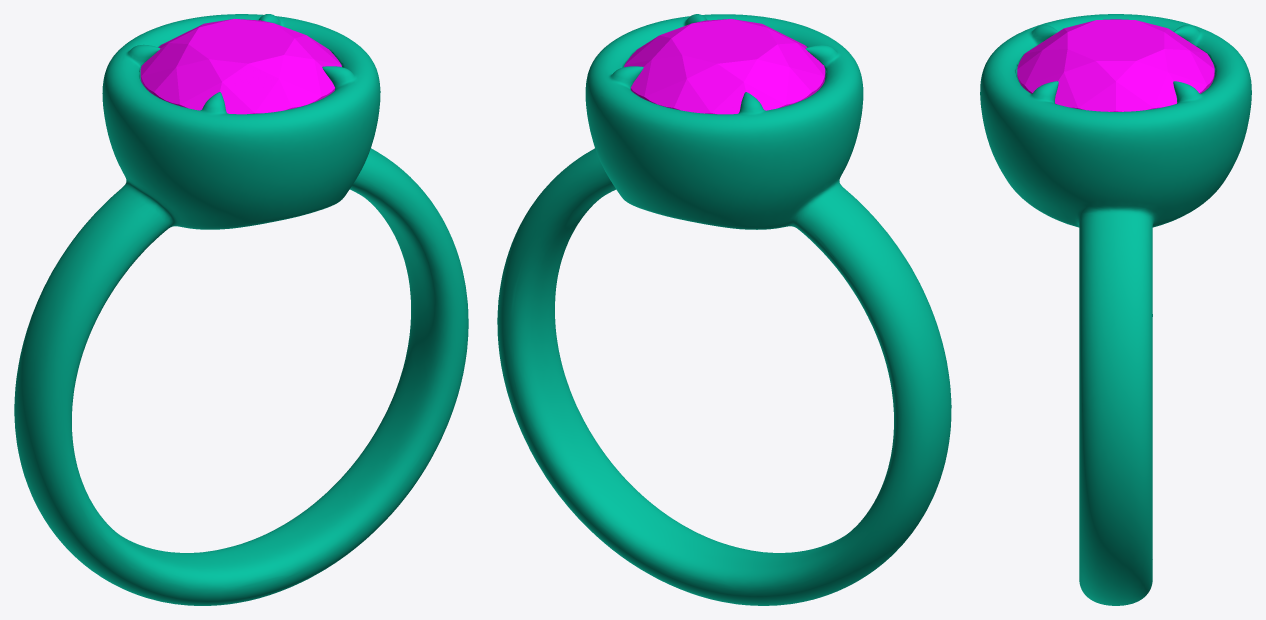
The model's file is BE1D1009_RD_200ct_RENDER.glb.
3 renders of one model, left to right at view 1: azimuth 30°, elevation 25°; view 2: azimuth 150°, elevation 25°; view 3: azimuth 270°, elevation 25°, orthographic. The views are drawn at different scales.
Visible parts, largest first — view 1: Metal 01, CS_Diamond_Round; view 2: Metal 01, CS_Diamond_Round; view 3: Metal 01, CS_Diamond_Round.
Part boxes in pixels (box(x1,y1,x2,y2)): Metal 01: box(14, 14, 468, 605); CS_Diamond_Round: box(140, 18, 341, 114); Metal 01: box(497, 14, 951, 605); CS_Diamond_Round: box(624, 19, 825, 114); Metal 01: box(980, 14, 1251, 605); CS_Diamond_Round: box(1017, 19, 1214, 111).
Bounding box in the file's own units: 20.09 × 24.23 × 11.
